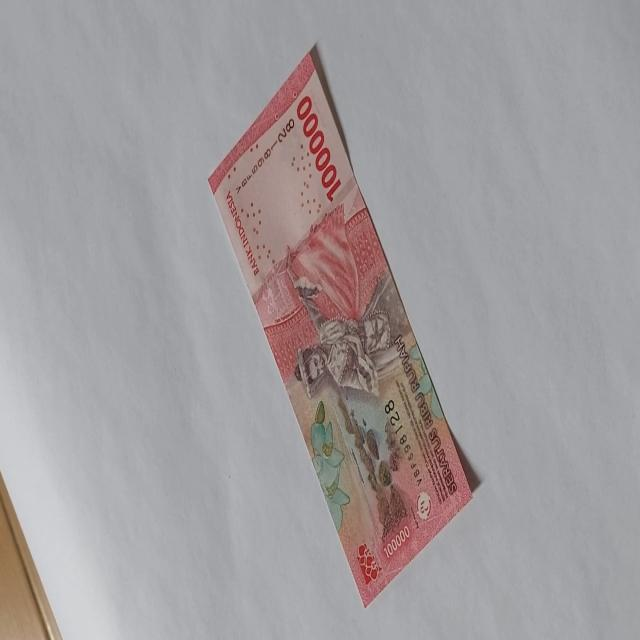seratus ribu rupiah: (206, 48, 474, 608)
